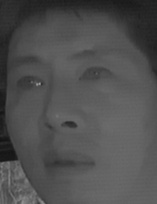eye: (77, 63, 115, 87), (14, 72, 46, 94)
mouth: (39, 146, 97, 180)
